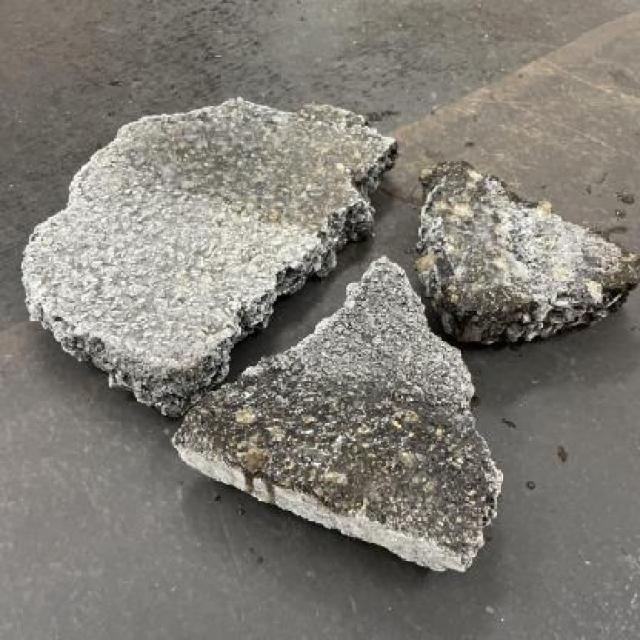Road Debris: (190, 386, 482, 554), (142, 91, 390, 234), (413, 164, 507, 338)
